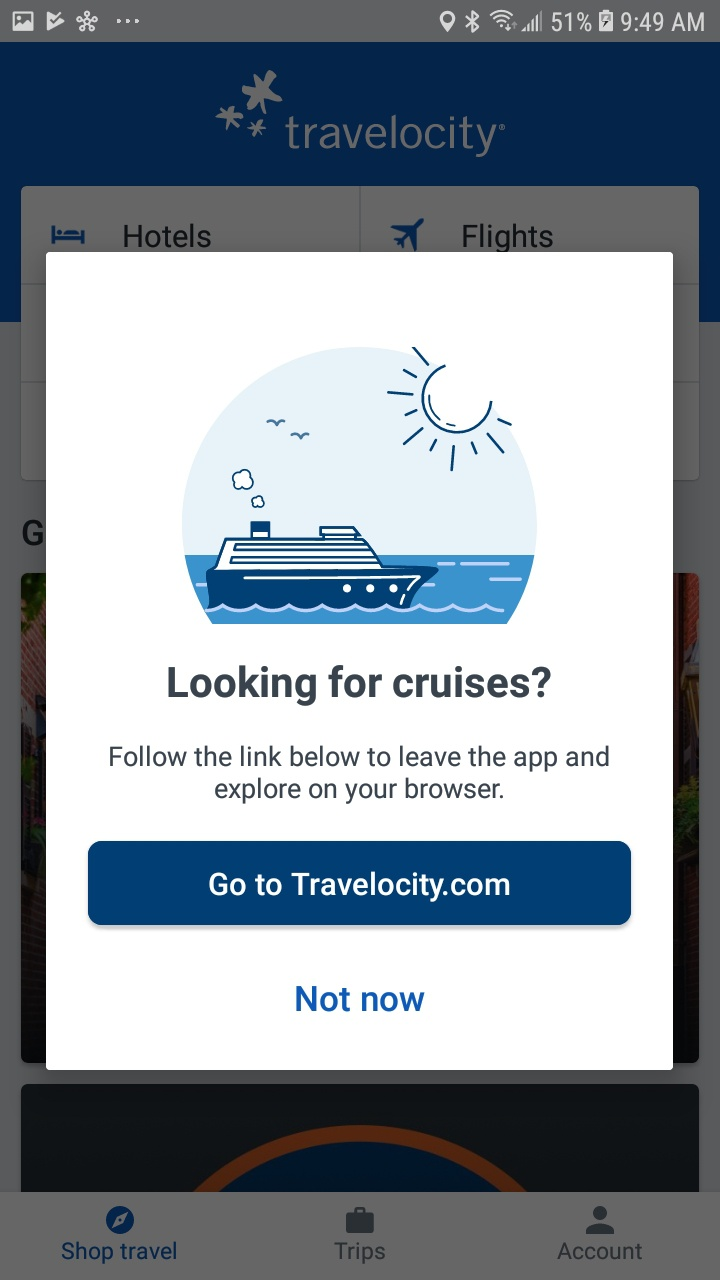Image: (181, 346, 538, 625)
Modal: (47, 252, 674, 1071)
Text: (110, 745, 610, 805), (168, 665, 552, 707), (296, 986, 426, 1013)
TextButton: (88, 840, 632, 926)
UpperTaskBar: (1, 1, 720, 43)
